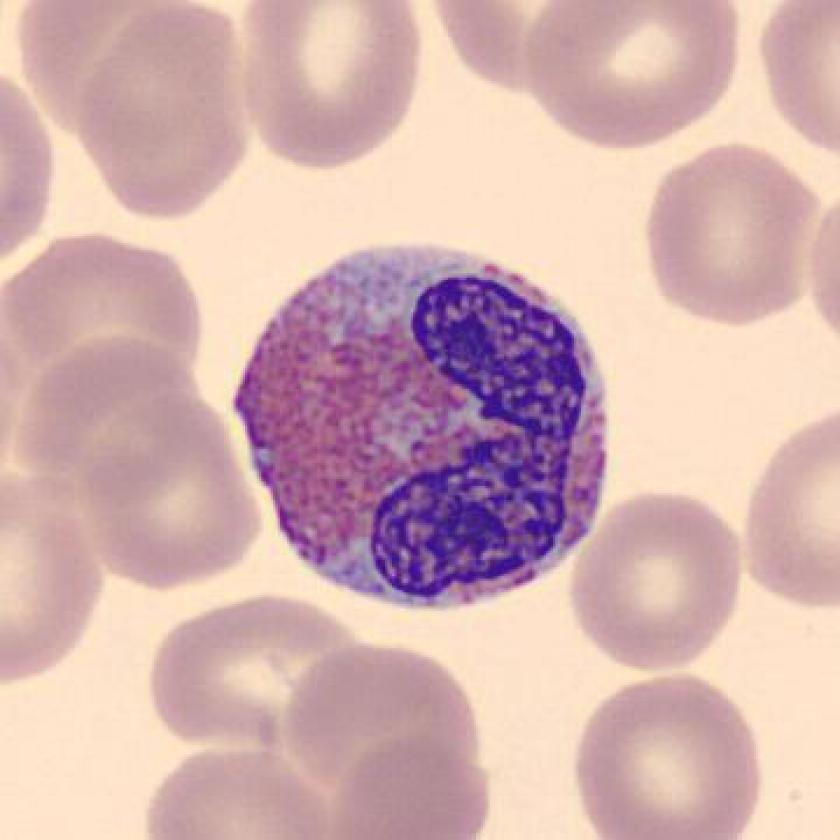eosinophil: (225, 232, 624, 626)
